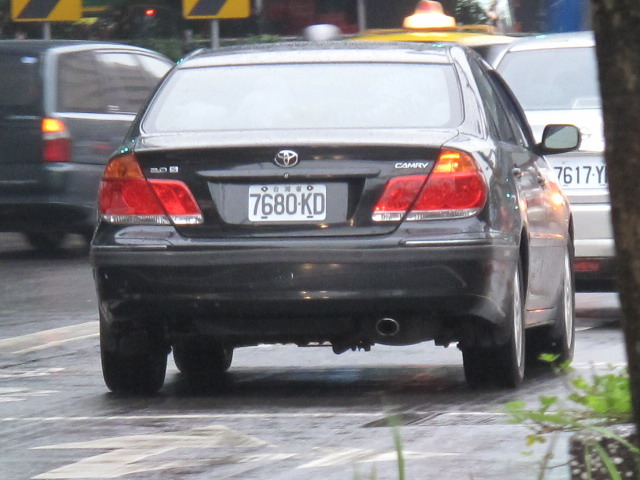plate: (246, 181, 328, 221), (555, 154, 613, 192)
